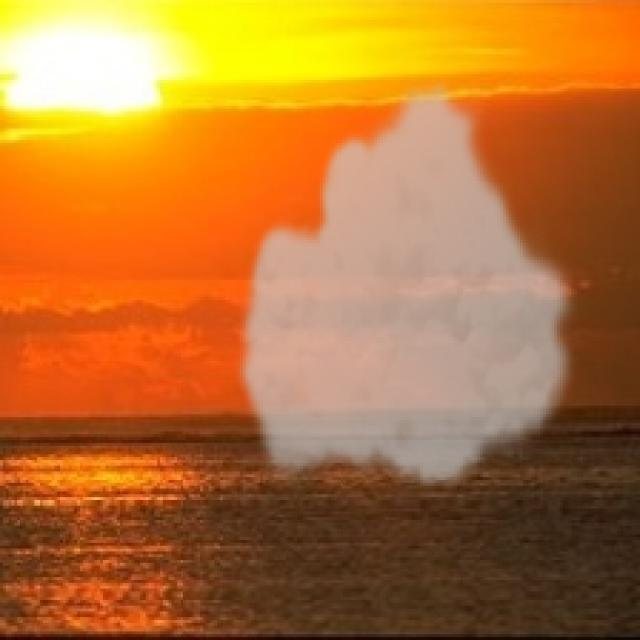Smoke: (234, 74, 583, 492)
